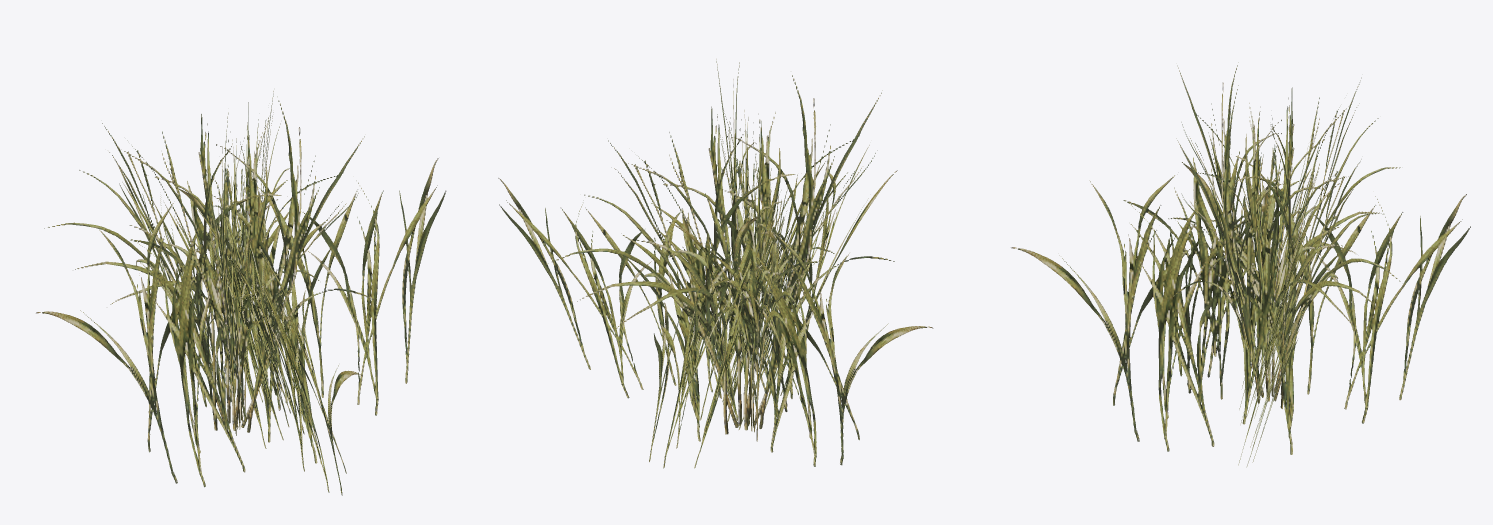
File: SM_FOL_Grass_Clump_02_A.fbx
3 views of the same model, side by side, from view 1: azimuth 30°, elevation 25°; view 2: azimuth 150°, elevation 25°; view 3: azimuth 270°, elevation 25° (orthographic). The views are drawn at different scales.
Parts seen in each view (by area): view 1: SM_FOL_Grass_Clump_02_A; view 2: SM_FOL_Grass_Clump_02_A; view 3: SM_FOL_Grass_Clump_02_A.
Part boxes in pixels (bbox=[...]): SM_FOL_Grass_Clump_02_A: bbox=[36, 91, 446, 495]; SM_FOL_Grass_Clump_02_A: bbox=[498, 59, 933, 468]; SM_FOL_Grass_Clump_02_A: bbox=[1011, 62, 1470, 467].
Bounding box in the file's own units: 70.74 × 60.18 × 70.74.
1 material, 1 textured.
